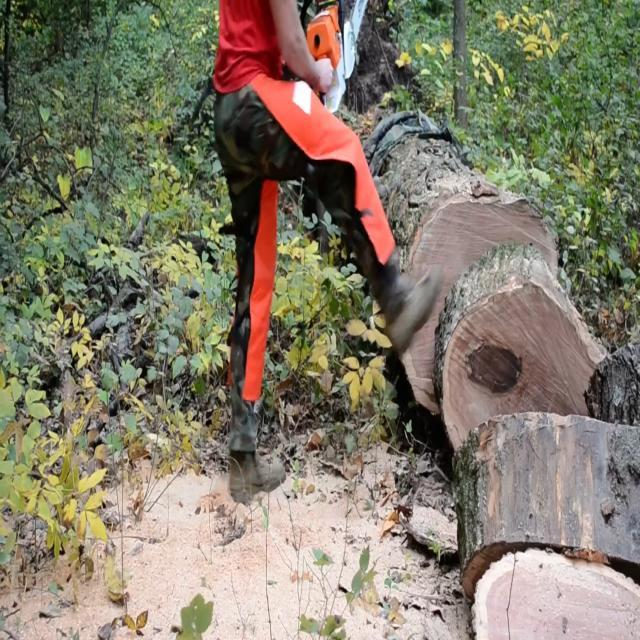Chainsaw: (285, 0, 385, 163)
